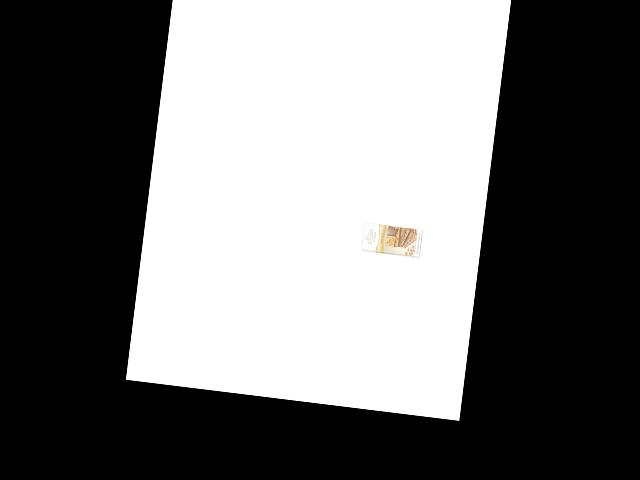chocolate: (356, 216, 426, 269)
